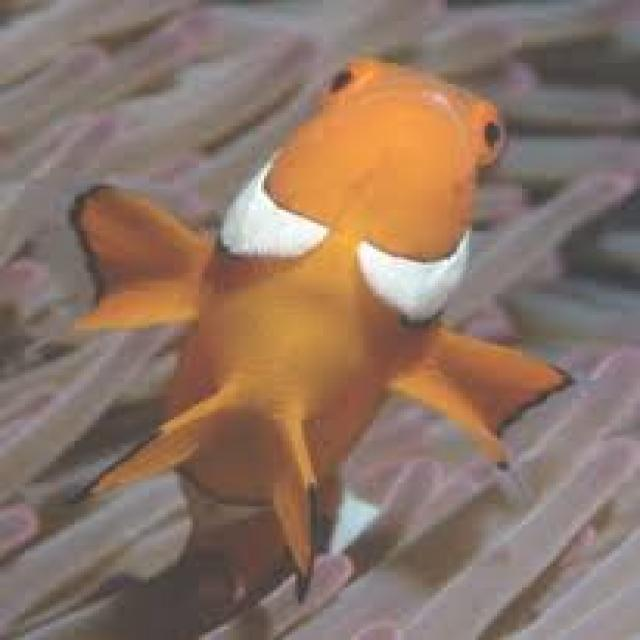ClownFish: (32, 45, 589, 595)
